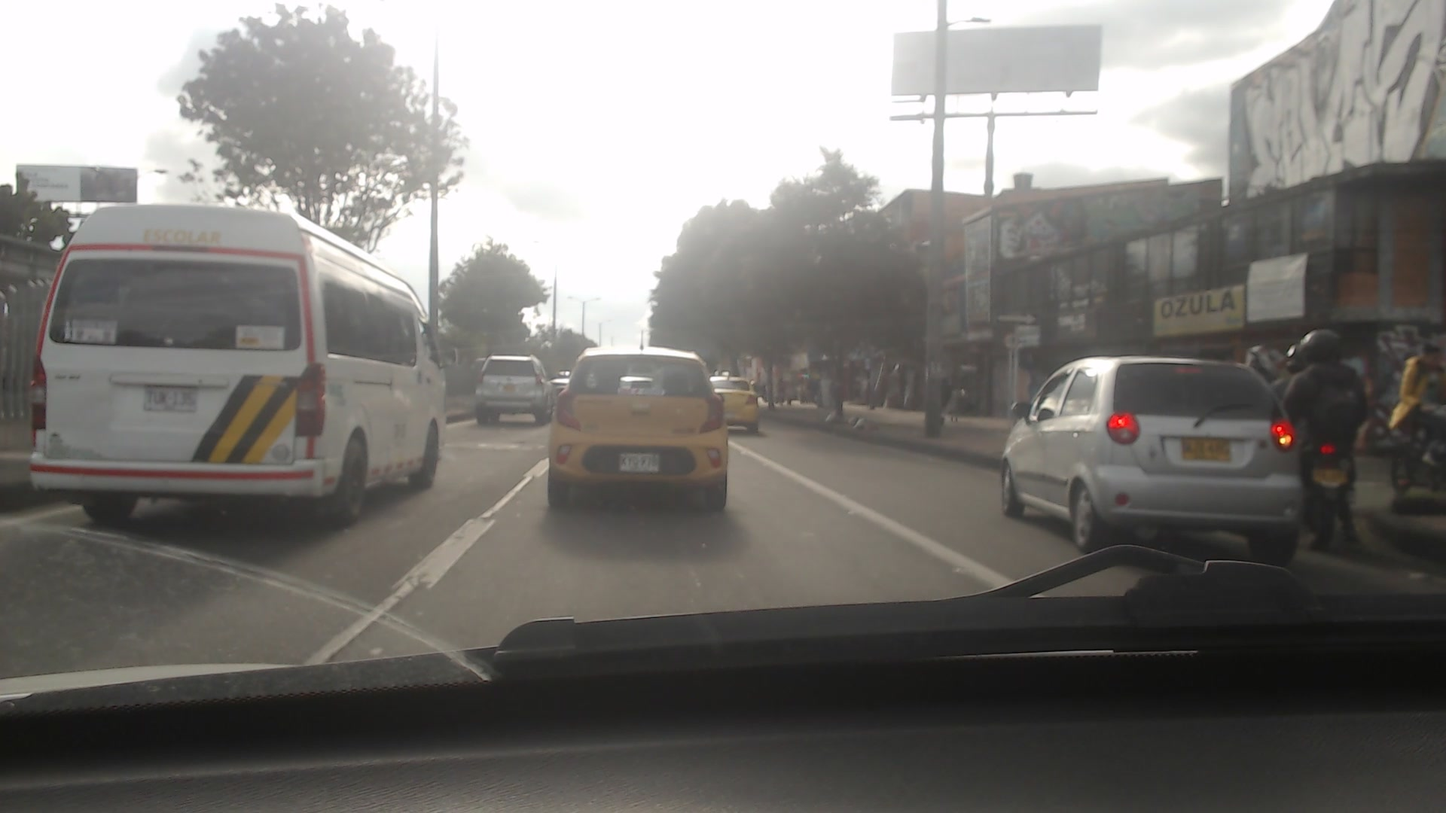bus: (39, 207, 452, 521)
car: (991, 356, 1303, 562), (553, 347, 729, 511), (467, 353, 553, 431), (705, 377, 767, 434)
motorcycle: (1293, 420, 1380, 566)
person: (1282, 329, 1364, 453)
